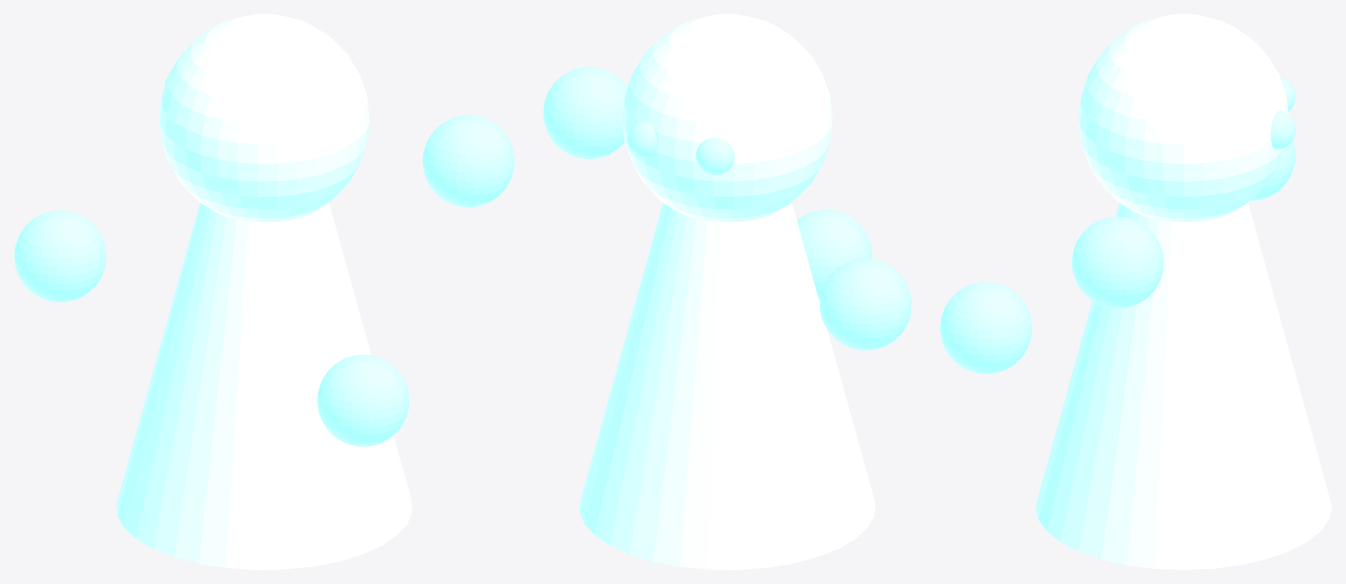
Rendered from enemy_spirit.glb.
3 views of the same model, side by side, from view 1: azimuth 30°, elevation 25°; view 2: azimuth 150°, elevation 25°; view 3: azimuth 270°, elevation 25° (orthographic).
Parts seen in each view (by area): view 1: GhostBody, GhostHead, Hitodama_0, Hitodama_1, Hitodama_2; view 2: GhostBody, GhostHead, Hitodama_0, Hitodama_1, Hitodama_2, Sphere, Sphere.001; view 3: GhostBody, GhostHead, Hitodama_2, Hitodama_1, Hitodama_0, Sphere.001.
Boxes of the visible parts, x1=… form: GhostBody: x1=116, y1=202, x2=412, y2=569; GhostHead: x1=159, y1=14, x2=369, y2=222; Hitodama_0: x1=14, y1=210, x2=106, y2=302; Hitodama_1: x1=422, y1=115, x2=514, y2=207; Hitodama_2: x1=317, y1=354, x2=409, y2=446; GhostBody: x1=579, y1=202, x2=875, y2=569; GhostHead: x1=622, y1=14, x2=832, y2=222; Hitodama_0: x1=819, y1=258, x2=911, y2=350; Hitodama_1: x1=543, y1=67, x2=627, y2=159; Hitodama_2: x1=797, y1=210, x2=872, y2=301; Sphere: x1=696, y1=138, x2=734, y2=175; Sphere.001: x1=627, y1=120, x2=656, y2=158; GhostBody: x1=1035, y1=202, x2=1331, y2=569; GhostHead: x1=1078, y1=14, x2=1288, y2=222; Hitodama_2: x1=940, y1=282, x2=1032, y2=374; Hitodama_1: x1=1071, y1=216, x2=1163, y2=308; Hitodama_0: x1=1250, y1=140, x2=1295, y2=201; Sphere.001: x1=1270, y1=111, x2=1295, y2=149.
Bounding box in the file's own units: 1.48 × 1.62 × 1.19.
